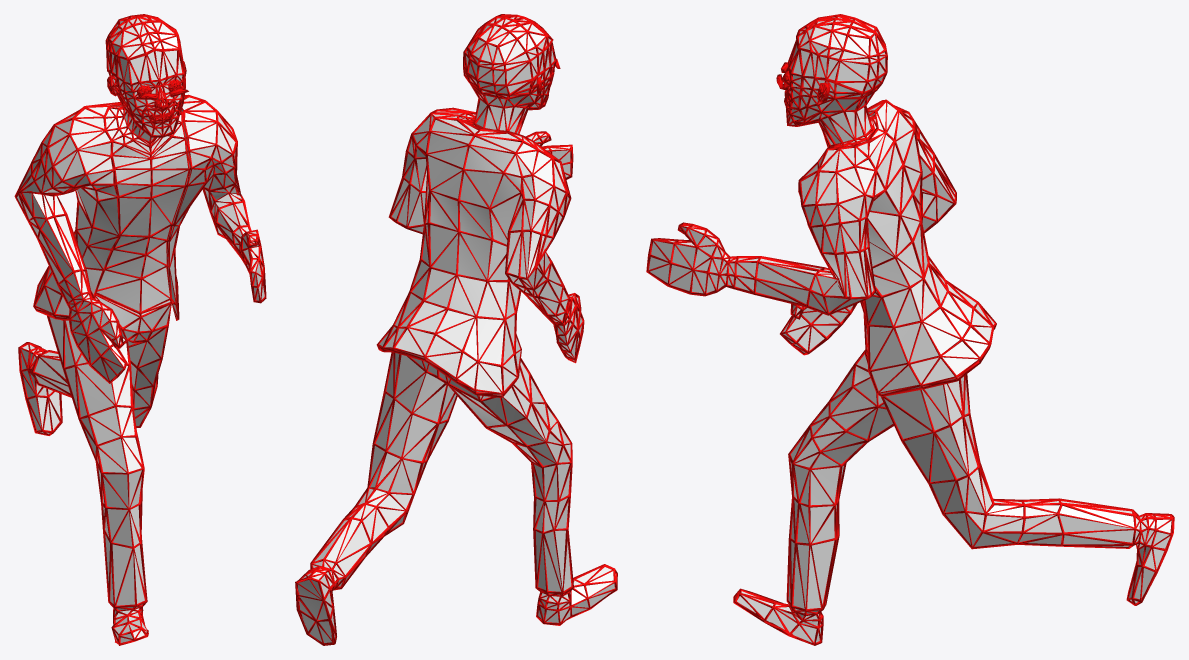
File: elegantRun_000009.obj
3 views of the same model, side by side, from view 1: azimuth 30°, elevation 25°; view 2: azimuth 150°, elevation 25°; view 3: azimuth 270°, elevation 25° (orthographic). The views are drawn at different scales.
Visible parts, largest first — view 1: BaseHuman_Cylinder.002; view 2: BaseHuman_Cylinder.002; view 3: BaseHuman_Cylinder.002.
Part boxes in pixels (x1=…): BaseHuman_Cylinder.002: x1=14, y1=14, x2=266, y2=645; BaseHuman_Cylinder.002: x1=295, y1=14, x2=617, y2=645; BaseHuman_Cylinder.002: x1=646, y1=14, x2=1174, y2=645.
Size of the model in its own units: 1.47 by 4.61 by 3.45.
